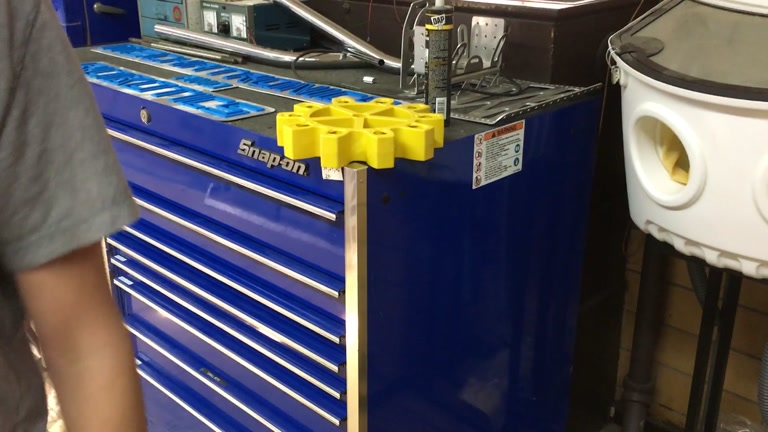gear: (276, 95, 444, 169)
